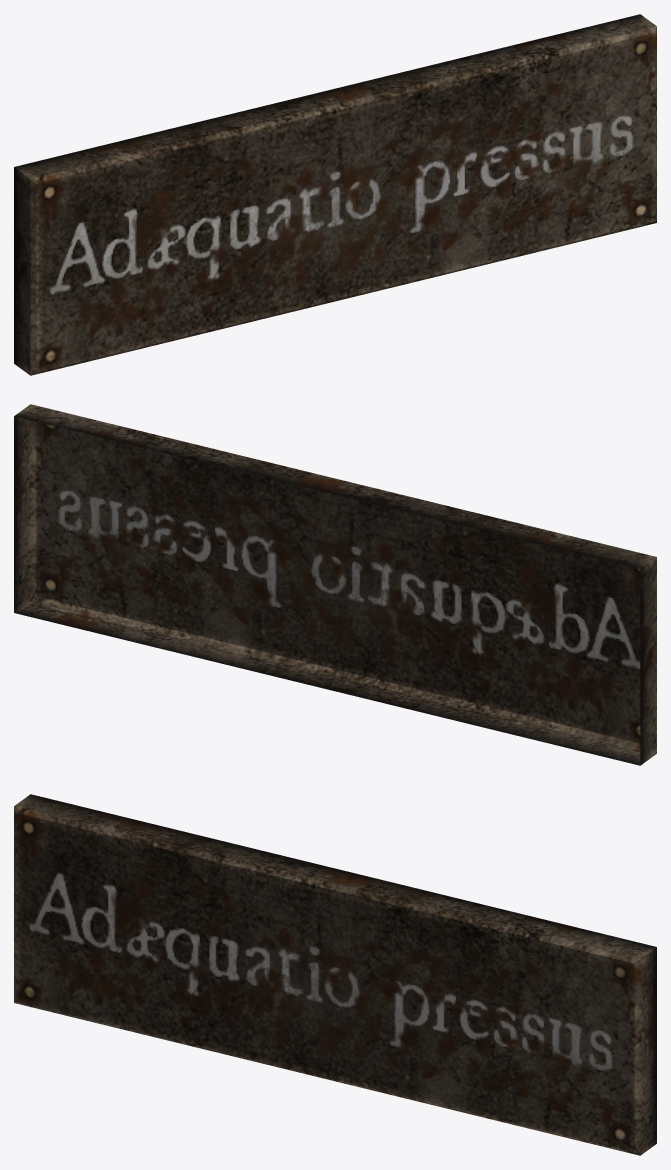
File: guiding_rod_machine_sign.dae
3 renders of one model, top to bottom at view 1: azimuth 30°, elevation 25°; view 2: azimuth 150°, elevation 25°; view 3: azimuth 330°, elevation 25°, orthographic.
Visible parts, largest first — view 1: guiding_rod_machine_sign; view 2: guiding_rod_machine_sign; view 3: guiding_rod_machine_sign.
Boxes of the visible parts, left/top/right/bottom form: guiding_rod_machine_sign: left=14, top=14, right=656, bottom=375; guiding_rod_machine_sign: left=14, top=404, right=656, bottom=765; guiding_rod_machine_sign: left=14, top=794, right=656, bottom=1155.
Bounding box in the file's own units: 1.82 × 0.5455 × 0.0941.
